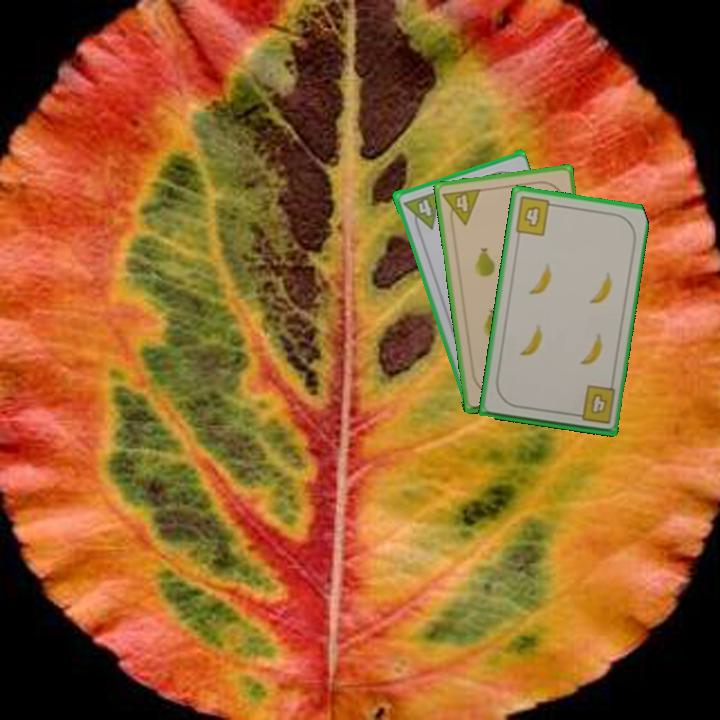4b: (511, 193, 559, 239), (569, 382, 618, 427)
4p: (399, 187, 443, 235), (439, 185, 484, 229)
